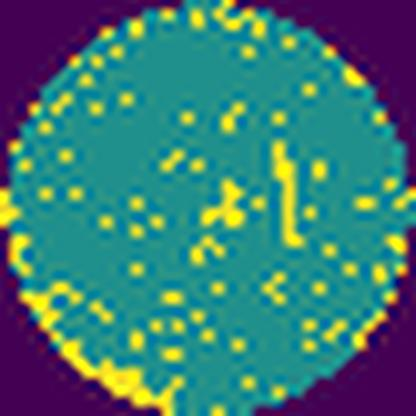Edge-Loc: (20, 281, 184, 415)
